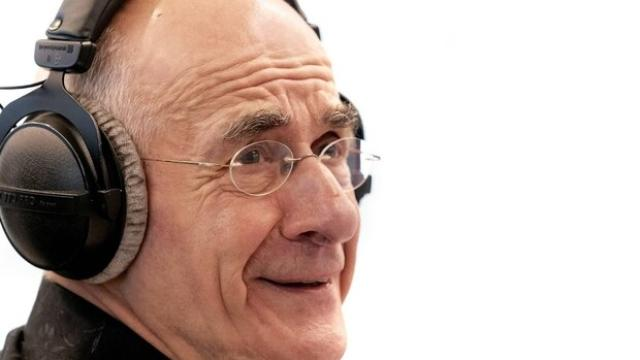crows_feet: (198, 166, 226, 198)
forehead: (294, 53, 330, 89), (262, 57, 290, 101), (224, 63, 256, 97), (182, 75, 220, 101)
gummy_smile: (238, 230, 268, 270)
masseter: (207, 268, 235, 316)
